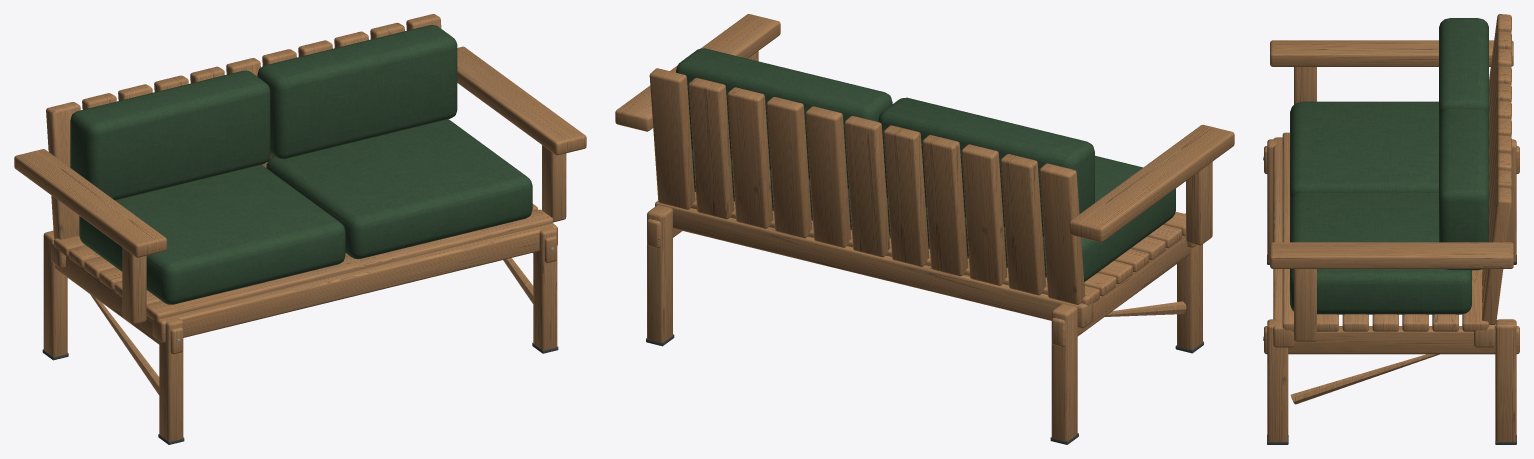
File: patio-loveseat.glb
The picture shows the model from 3 angles, left to right: view 1: azimuth 30°, elevation 25°; view 2: azimuth 150°, elevation 25°; view 3: azimuth 270°, elevation 25°; orthographic projection. The views are drawn at different scales.
Visible parts, largest first — view 1: patio-loveseat authored assembly; view 2: patio-loveseat authored assembly; view 3: patio-loveseat authored assembly.
Part boxes in pixels (x1,y1,x2,y2): patio-loveseat authored assembly: (14,14,586,444); patio-loveseat authored assembly: (615,14,1234,444); patio-loveseat authored assembly: (1263,14,1519,444).
Size of the model in its own units: 1.6 by 0.85 by 0.8.
Materials: 5 (2 with a texture image).
